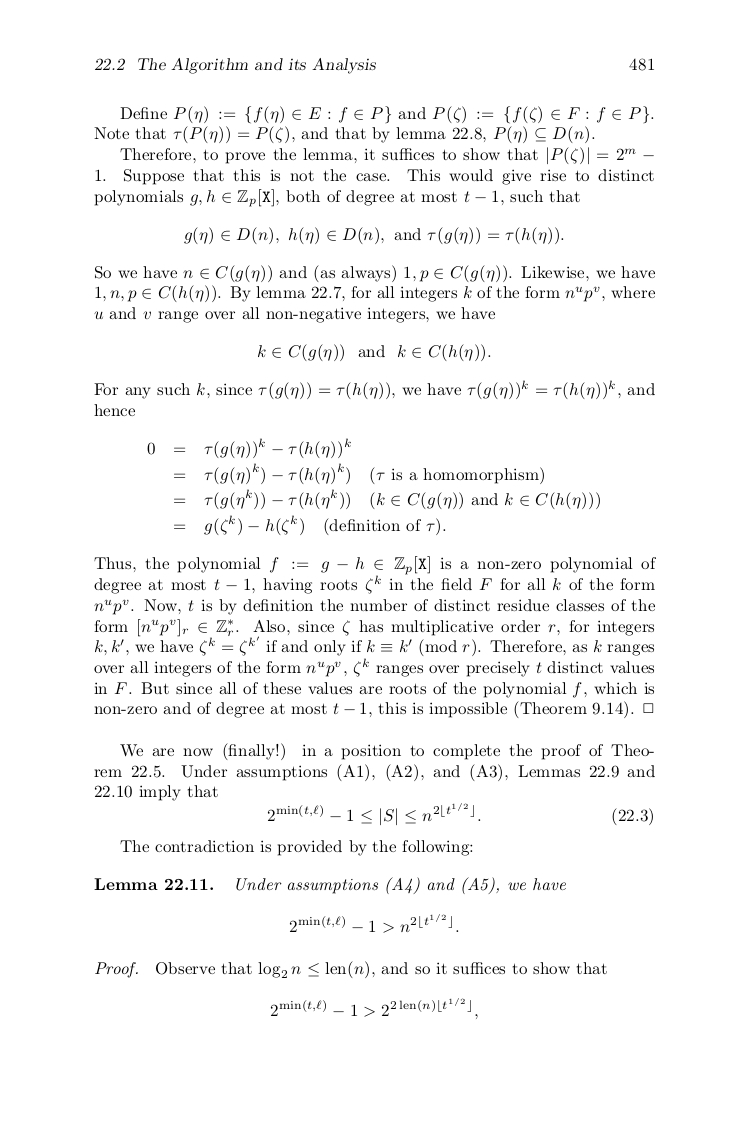formula: (174, 488, 599, 510), (174, 462, 543, 485), (267, 803, 652, 825), (184, 226, 563, 245), (174, 514, 445, 536), (270, 997, 477, 1019), (147, 437, 350, 459), (258, 343, 490, 362), (289, 913, 458, 933)
